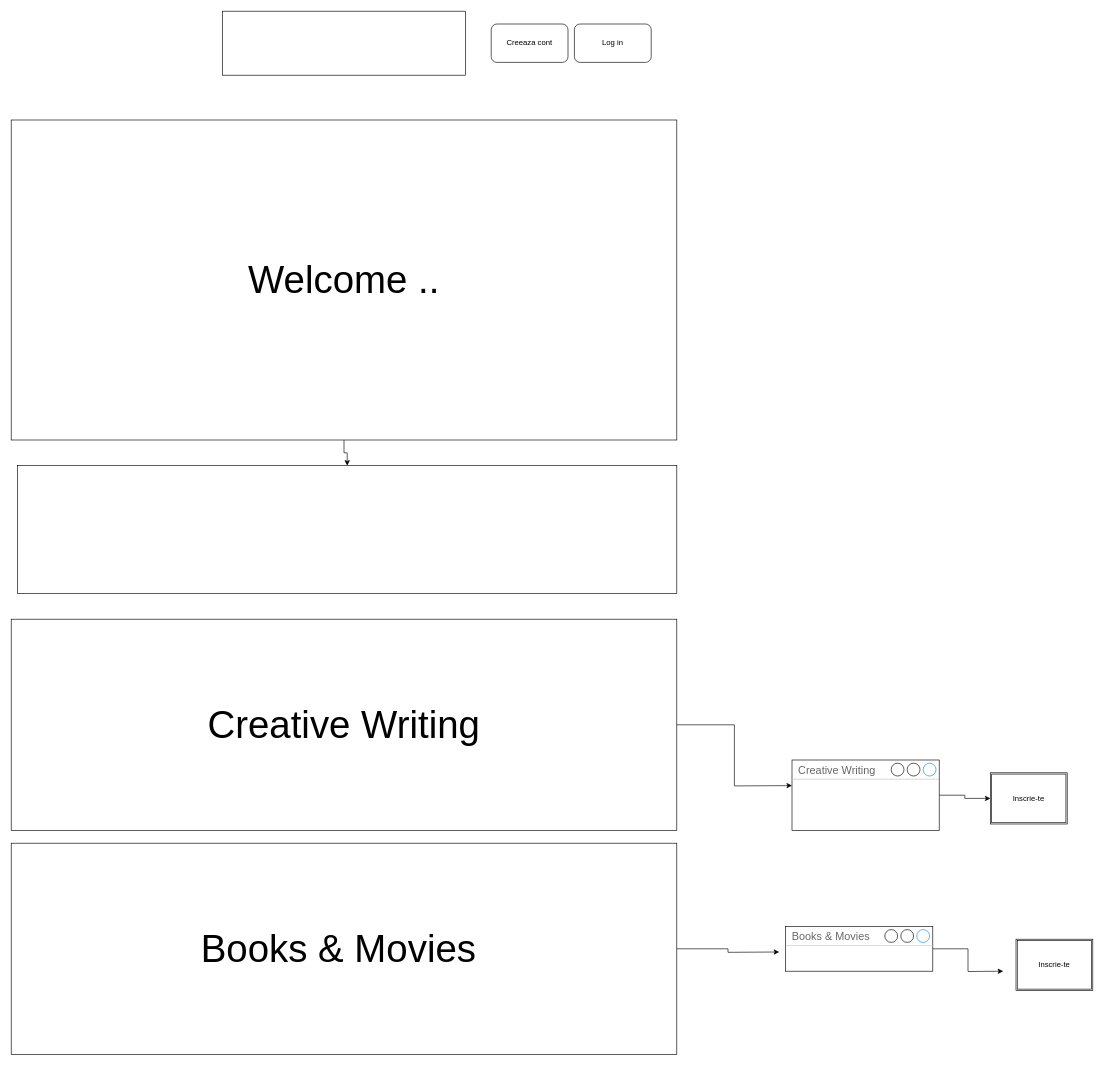
This 1104x1066 diagram has some shape labels left out. Here are the shapes that lost their labels. From the top down, the box of each, then its label:
(222, 11, 466, 75): LOGO
(17, 465, 677, 594): Cine suntem noi?
